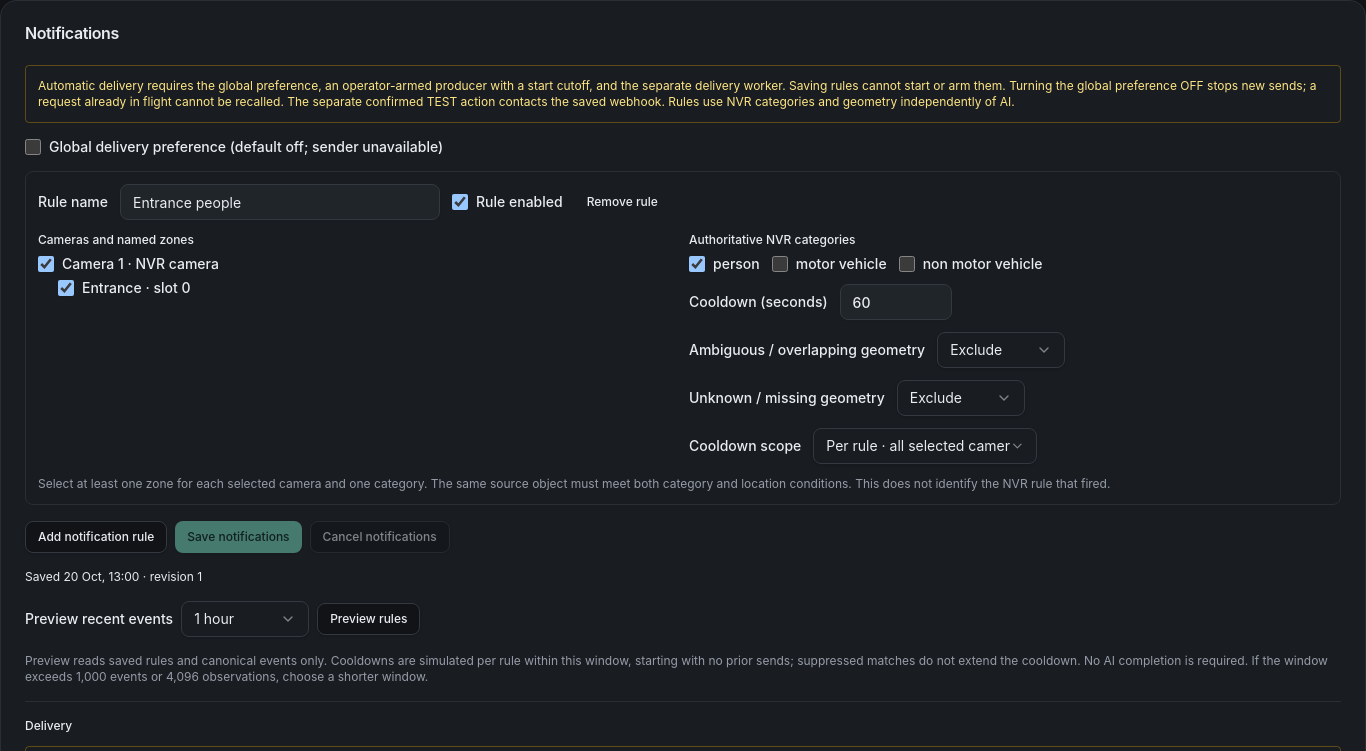
Test: edits independent NVR rules with Save/Cancel and delivery still explicitly unavailable
Check: the text "Automatic delivery requires the global preference" is shown, box [38,78,1316,109]
Click the checkbox labelled "Global delivery preference (default off; sender unavailable)" at (33, 147), box [25,139,41,155]
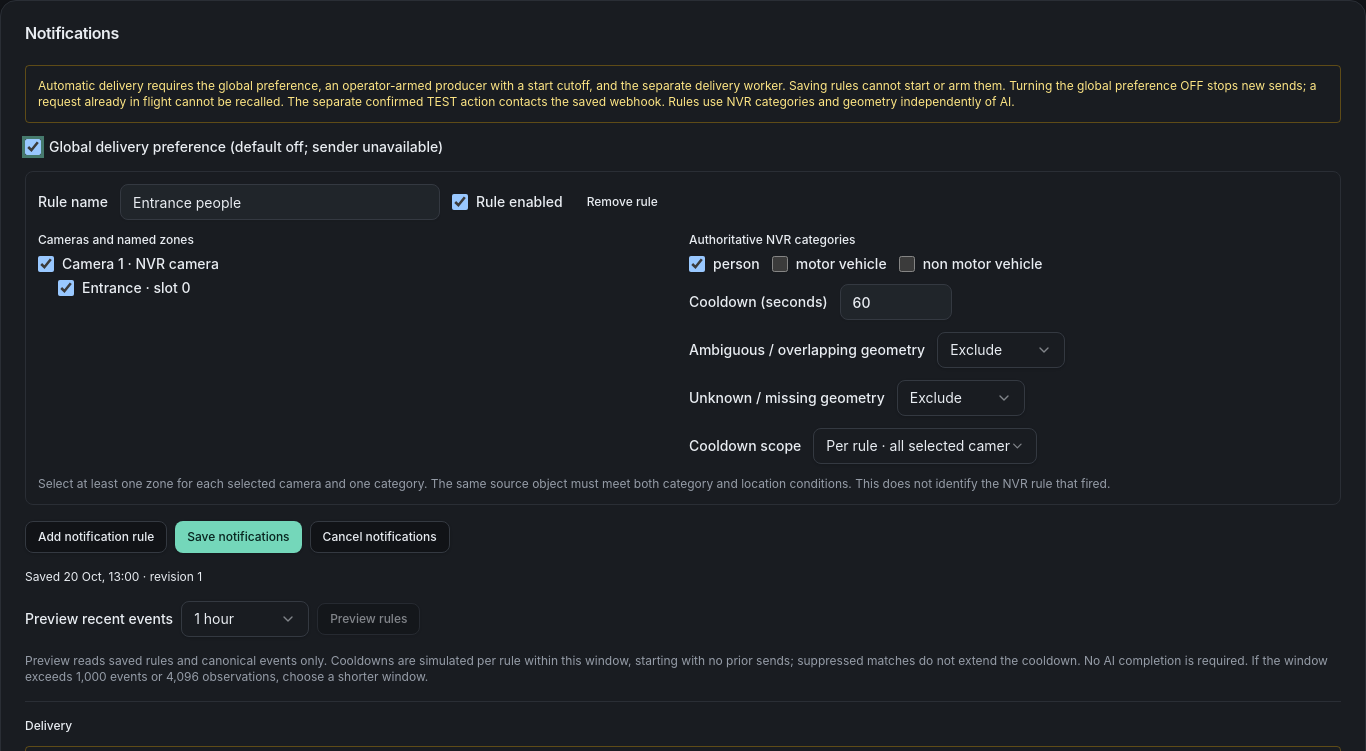
Click the button "Cancel notifications" at (380, 537), box [310,521,450,553]
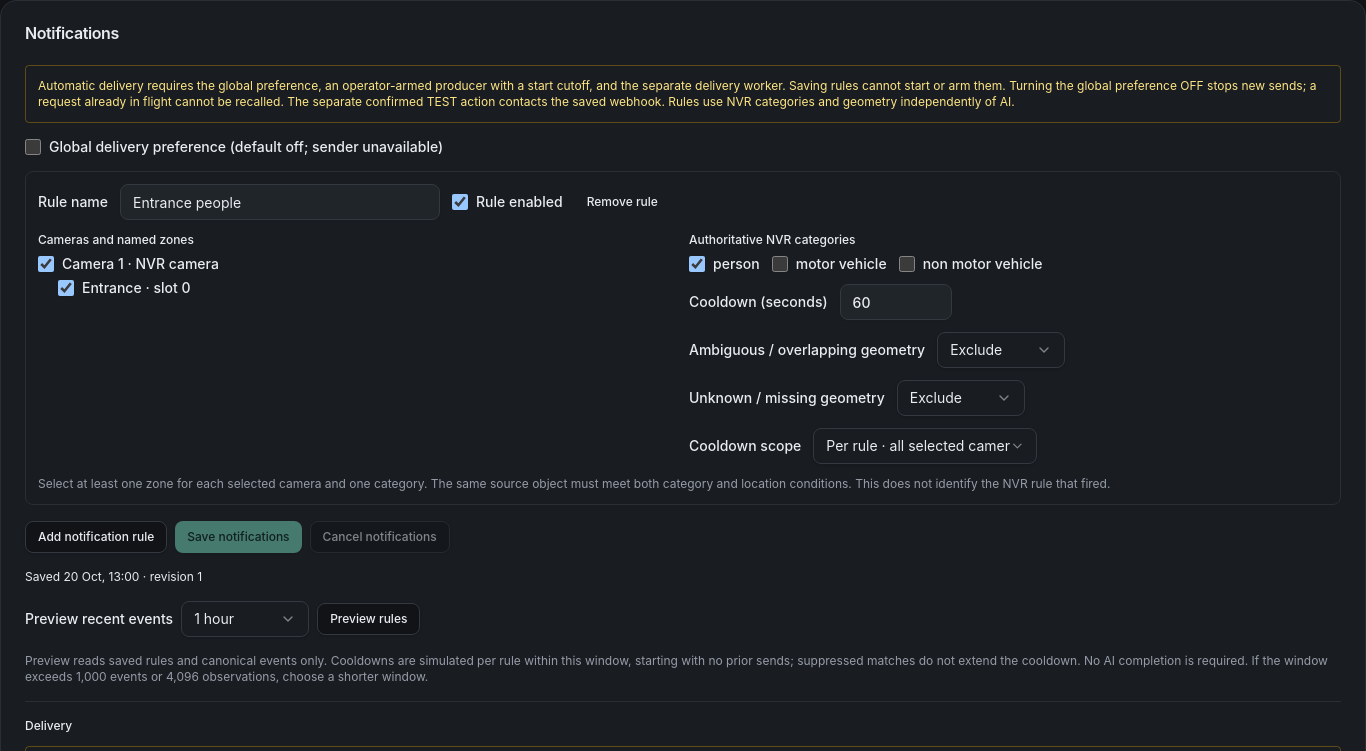
Check: the checkbox labelled "Global delivery preference (default off; sender unavailable)" is not checked, box [25,139,41,155]
Click the checkbox labelled "Rule enabled" at (460, 202), box [452,194,468,210]
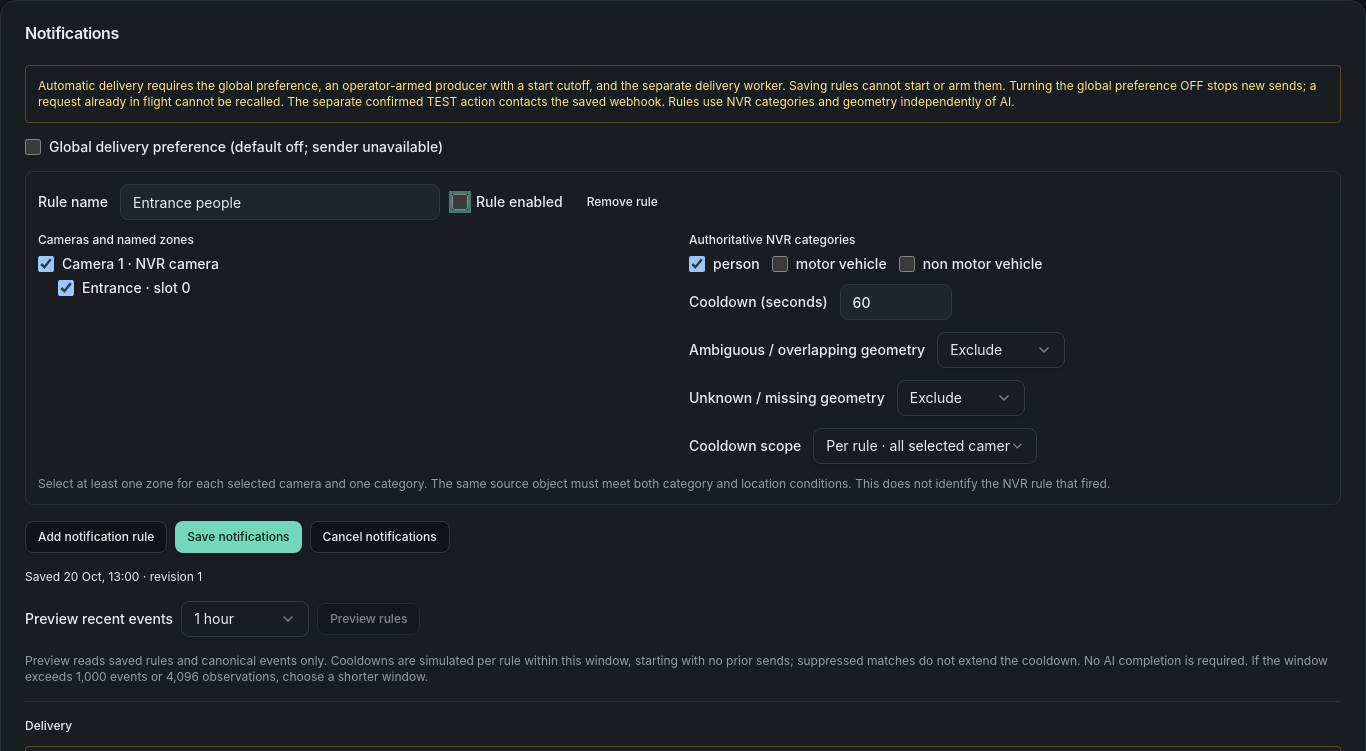
Replace the text in the number field labelled "Cooldown (seconds)" with "120" at (896, 302), box [840,284,952,320]
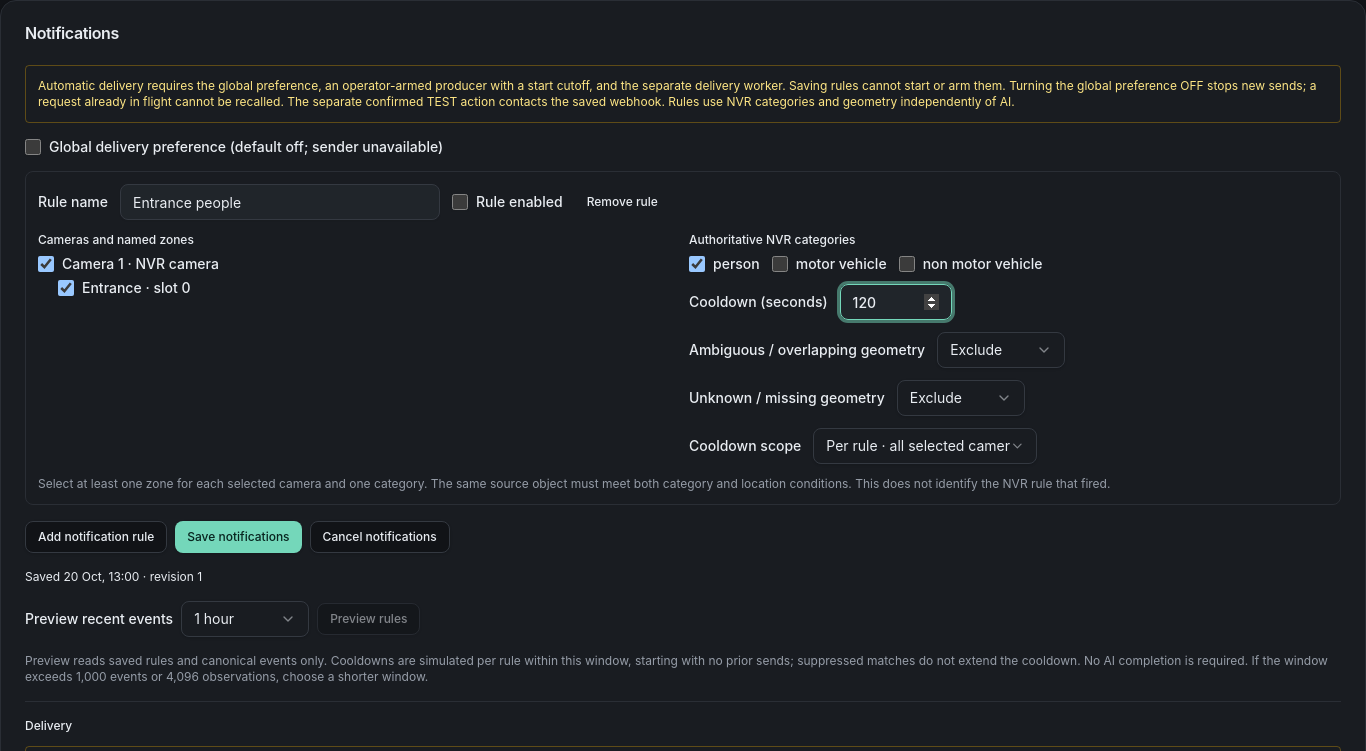
Click the button "Save notifications" at (238, 537), box [175,521,302,553]
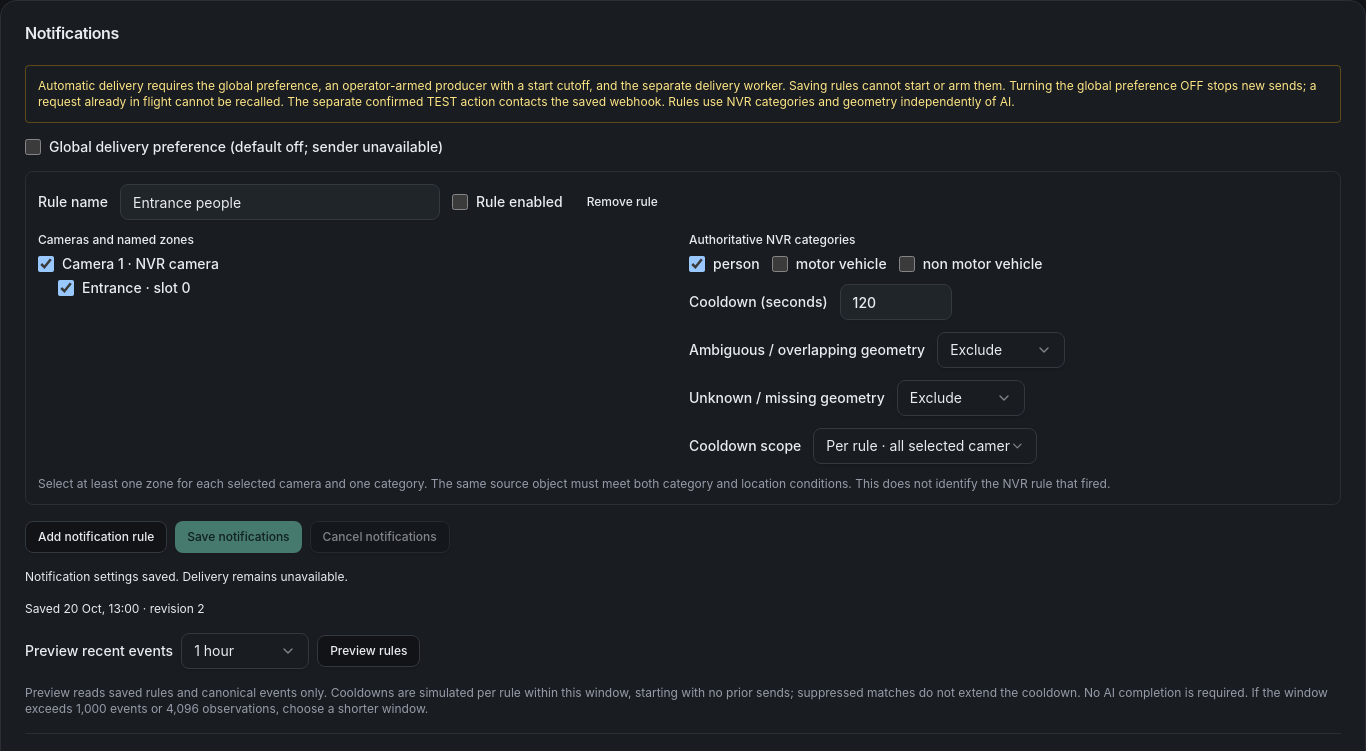
Check: the text "Notification settings saved. Delivery remains unavailable." is shown, box [25,569,348,584]
